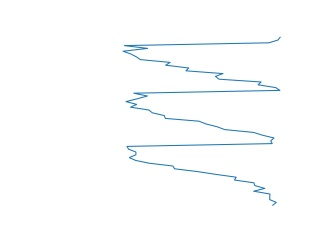distributaryMouthBar: (117, 33, 283, 209)
